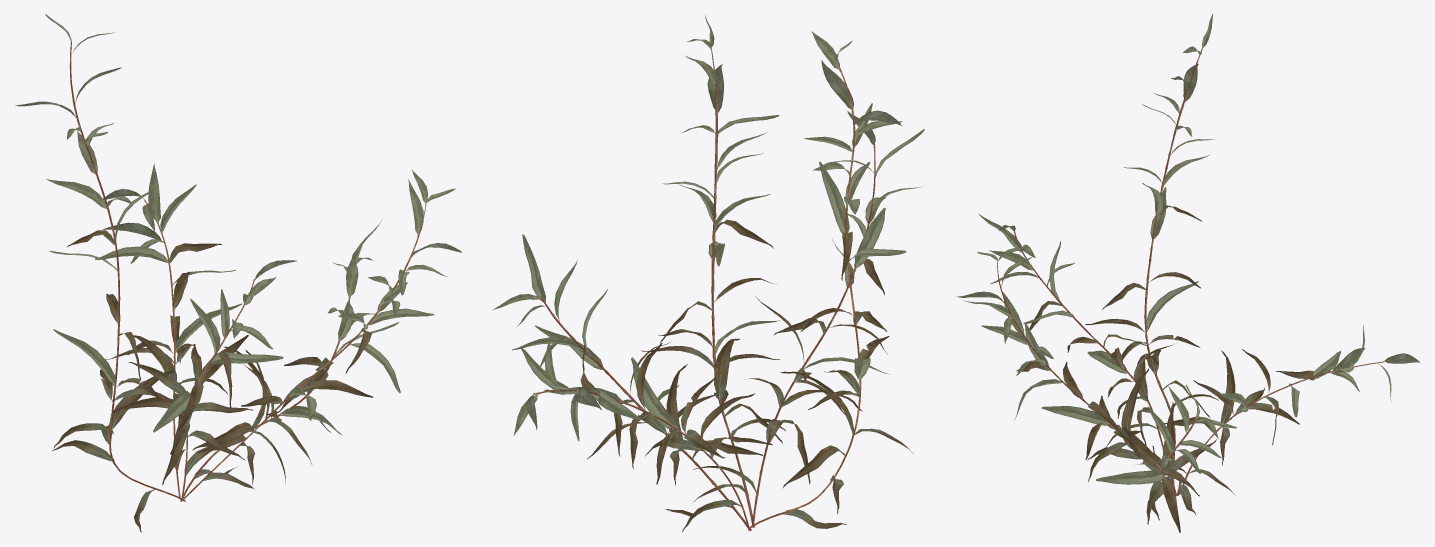
Rendered from natural-berry-bush-clear-depleted.glb.
The picture shows the model from 3 angles, left to right: view 1: azimuth 30°, elevation 25°; view 2: azimuth 150°, elevation 25°; view 3: azimuth 270°, elevation 25°; orthographic projection. The views are drawn at different scales.
Parts seen in each view (by area): view 1: natural-berry-bush-clear-depleted runtime mesh; view 2: natural-berry-bush-clear-depleted runtime mesh; view 3: natural-berry-bush-clear-depleted runtime mesh.
Part boxes in pixels (x1,y1,x2,y2): natural-berry-bush-clear-depleted runtime mesh: (15, 14, 461, 532); natural-berry-bush-clear-depleted runtime mesh: (492, 15, 924, 531); natural-berry-bush-clear-depleted runtime mesh: (956, 14, 1419, 532).
Bounding box in the file's own units: 0.8156 × 1.05 × 1.02.
Materials: 1 (1 with a texture image).
